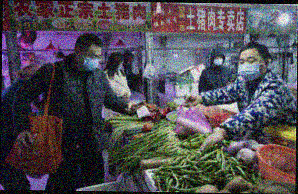mask_weared_incorrect: (117, 60, 124, 72)
with_mask: (237, 53, 265, 81), (80, 50, 103, 72), (212, 54, 224, 66)
